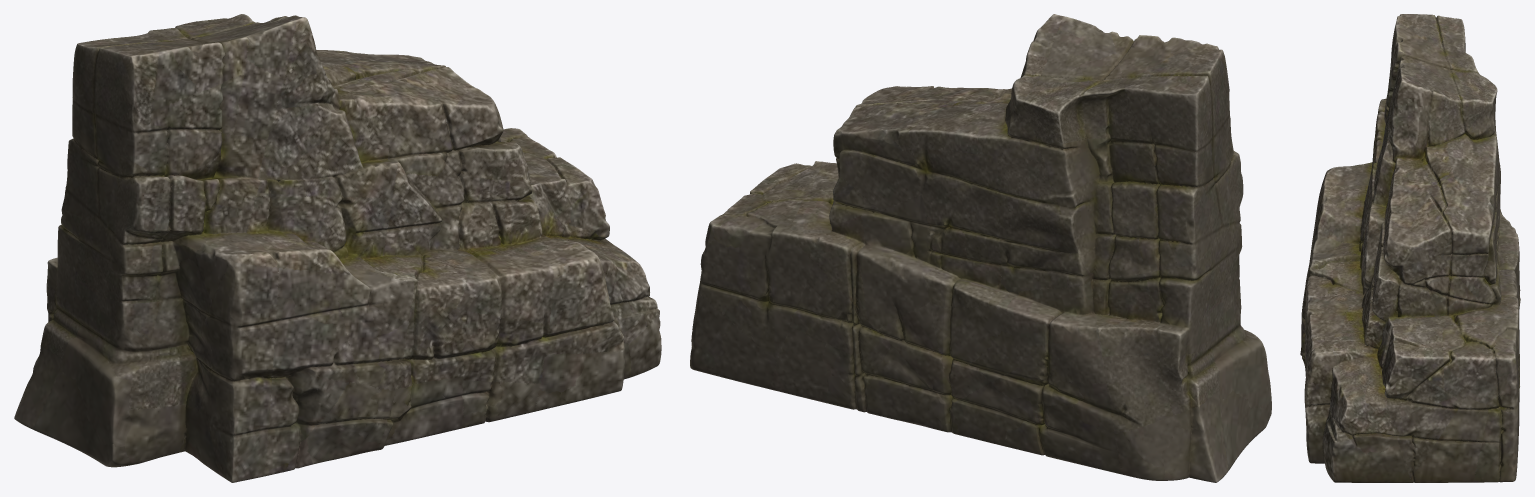
The model's file is Meshy_AI_medium_boulder_b_0823024939_image-to-3d-texture.glb.
3 views of the same model, side by side, from view 1: azimuth 30°, elevation 25°; view 2: azimuth 150°, elevation 25°; view 3: azimuth 270°, elevation 25° (orthographic). The views are drawn at different scales.
Visible parts, largest first — view 1: mesh_node; view 2: mesh_node; view 3: mesh_node.
Boxes of the visible parts, left/top/right/bottom form: mesh_node: left=14, top=14, right=661, bottom=482; mesh_node: left=690, top=14, right=1271, bottom=482; mesh_node: left=1300, top=14, right=1520, bottom=482.
Bounding box in the file's own units: 1.9 × 1.33 × 0.9013.
Materials: 1 (1 with a texture image).
